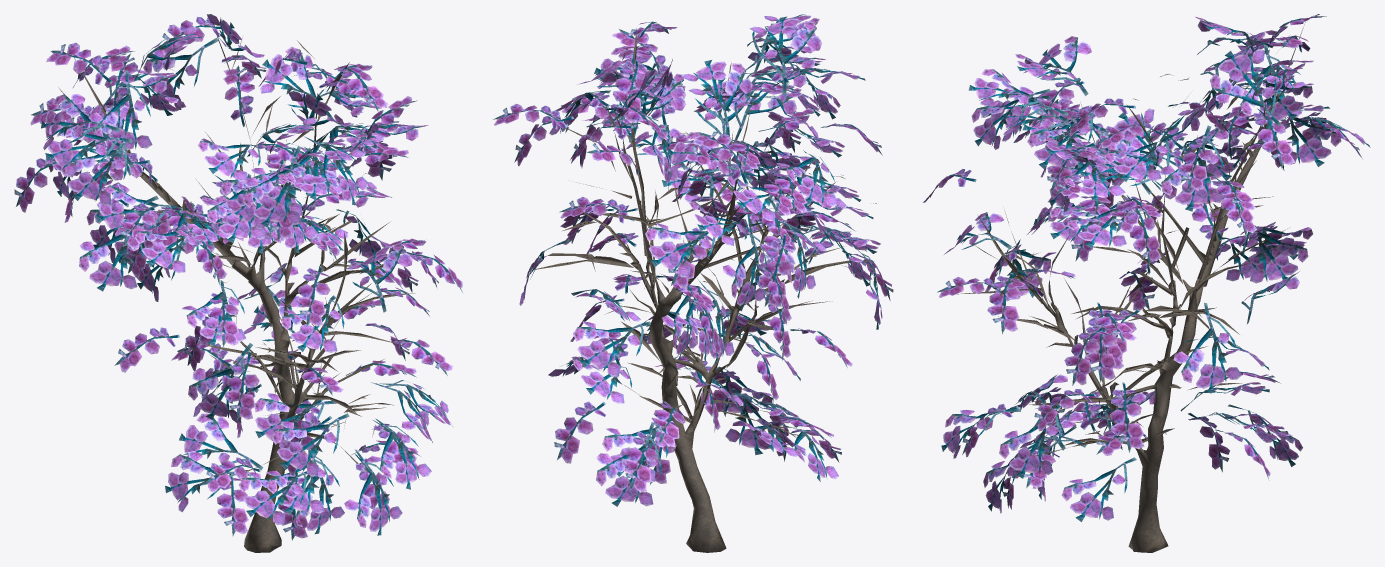
File: tree_ipe.glb
3 renders of one model, left to right at view 1: azimuth 30°, elevation 25°; view 2: azimuth 150°, elevation 25°; view 3: azimuth 270°, elevation 25°, orthographic. The views are drawn at different scales.
Visible parts, largest first — view 1: Broadleaf Dense Tree Adult; view 2: Broadleaf Dense Tree Adult; view 3: Broadleaf Dense Tree Adult.
Boxes of the visible parts, box(x1,y1,x2,y2) form: Broadleaf Dense Tree Adult: box(14, 14, 462, 552); Broadleaf Dense Tree Adult: box(493, 14, 893, 552); Broadleaf Dense Tree Adult: box(923, 14, 1370, 552).
Bounding box in the file's own units: 5.02 × 6.97 × 5.58.
2 materials, 2 textured.
